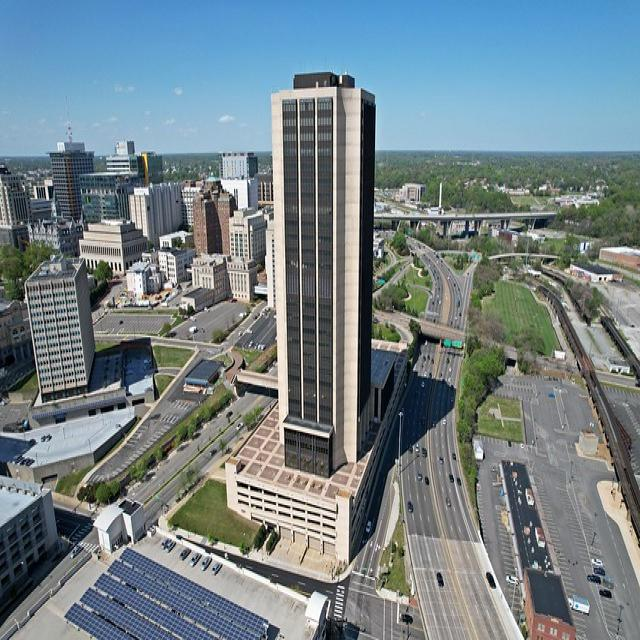Normal_building: (264, 63, 378, 465), (21, 250, 98, 402)
